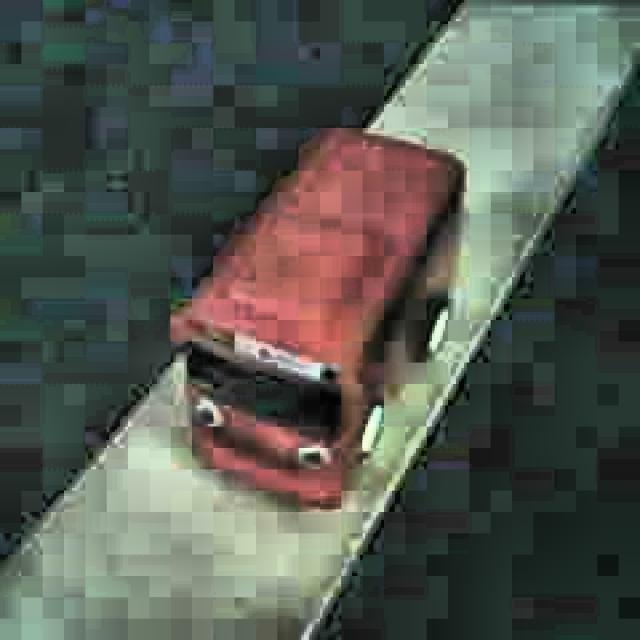bus: (169, 124, 467, 512)
